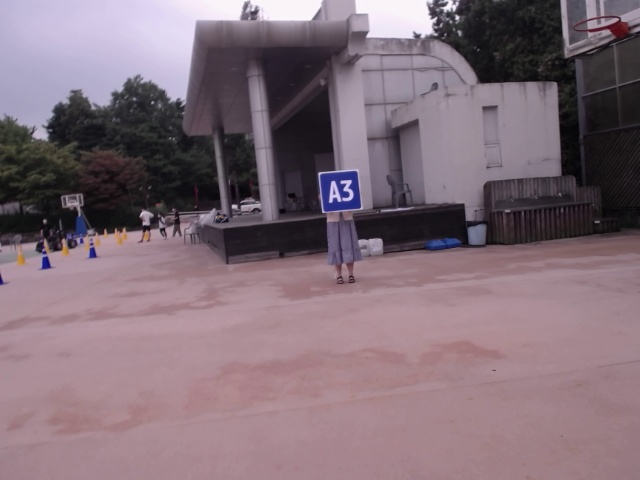delivery_a3: (318, 170, 363, 213)
